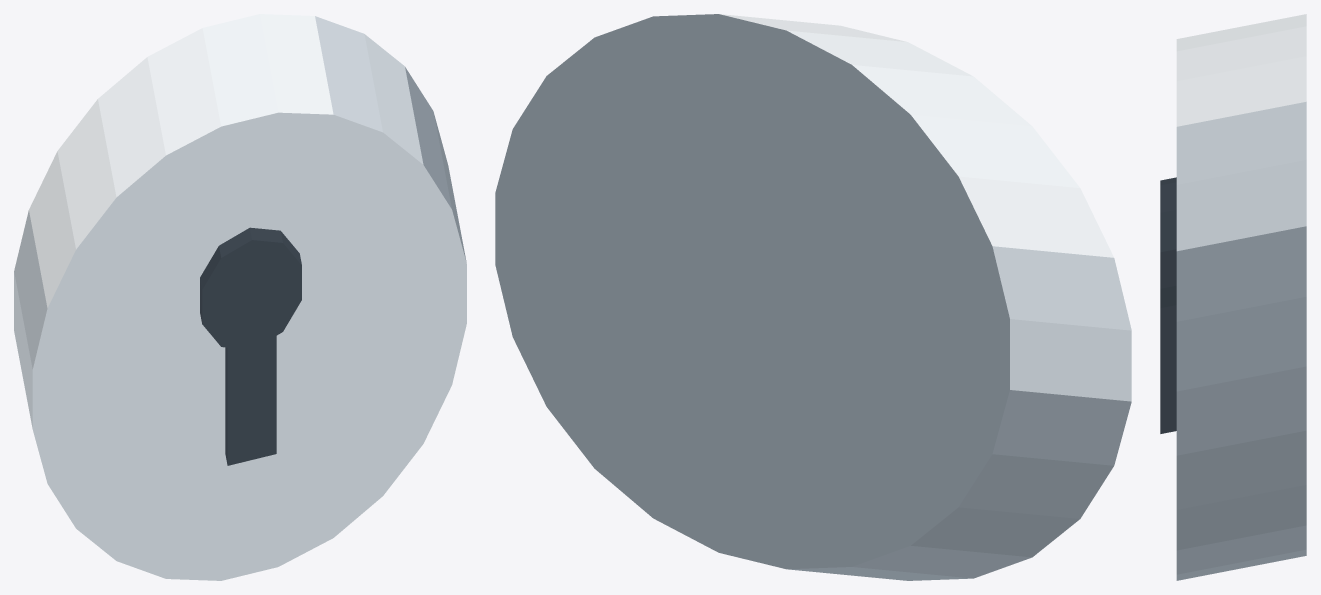
Rendered from LockWall_Emblem.gltf.
3 views of the same model, side by side, from view 1: azimuth 30°, elevation 25°; view 2: azimuth 150°, elevation 25°; view 3: azimuth 270°, elevation 25° (orthographic). The views are drawn at different scales.
Visible parts, largest first — view 1: LockWall_Emblem_baked; view 2: LockWall_Emblem_baked; view 3: LockWall_Emblem_baked.
Part boxes in pixels (<box>): LockWall_Emblem_baked: <box>14,14,466,580</box>; LockWall_Emblem_baked: <box>495,14,1131,580</box>; LockWall_Emblem_baked: <box>1160,14,1306,580</box>.
Bounding box in the file's own units: 0.5437 × 0.5437 × 0.135.
